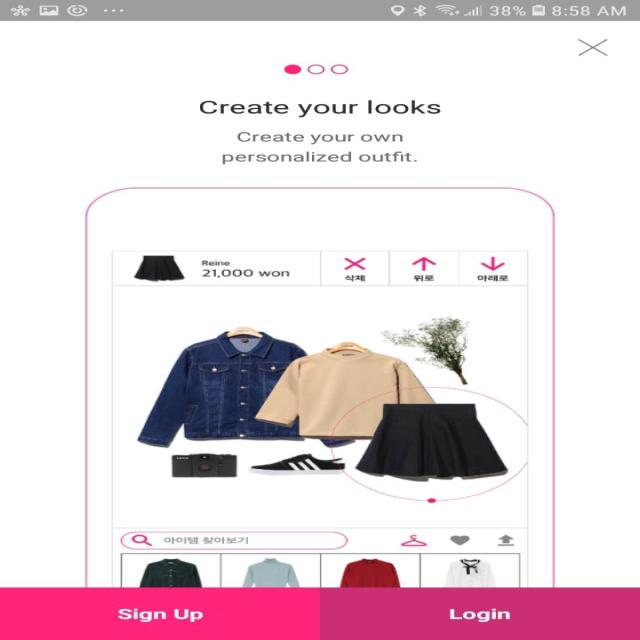Icon: (577, 38, 608, 56)
Image: (84, 187, 554, 587)
Text: (221, 132, 417, 164), (199, 100, 441, 118)
TextButton: (0, 587, 320, 640), (320, 587, 639, 640)
